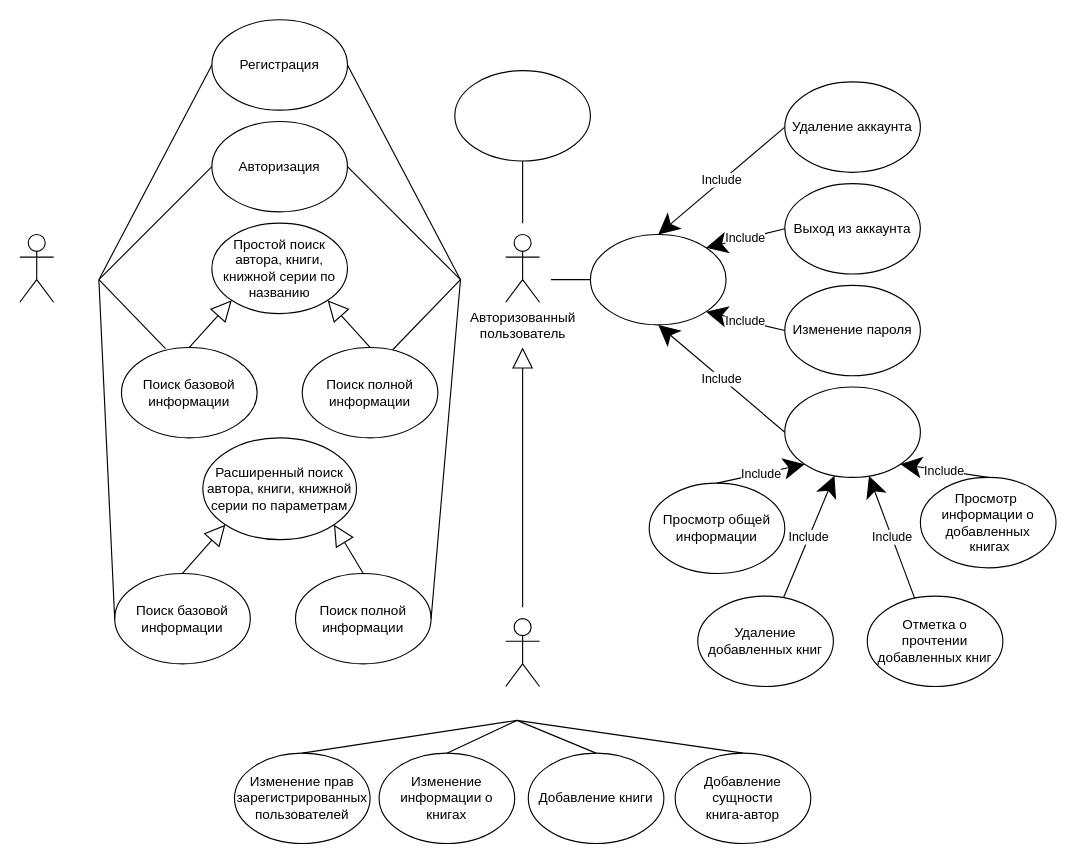
The diagram is 1076 pixels wide and 863 high, and some of its shapes have lost their labels. The centre of each missing label's shape, as x and y in pixels:
Администратор: pixel 522 652
Гость: pixel 36 267
Добавление книги на "книжную полку": pixel 522 115
Просмотр "книжной полки": pixel 852 431
Работа с личным кабинетом: pixel 657 279
